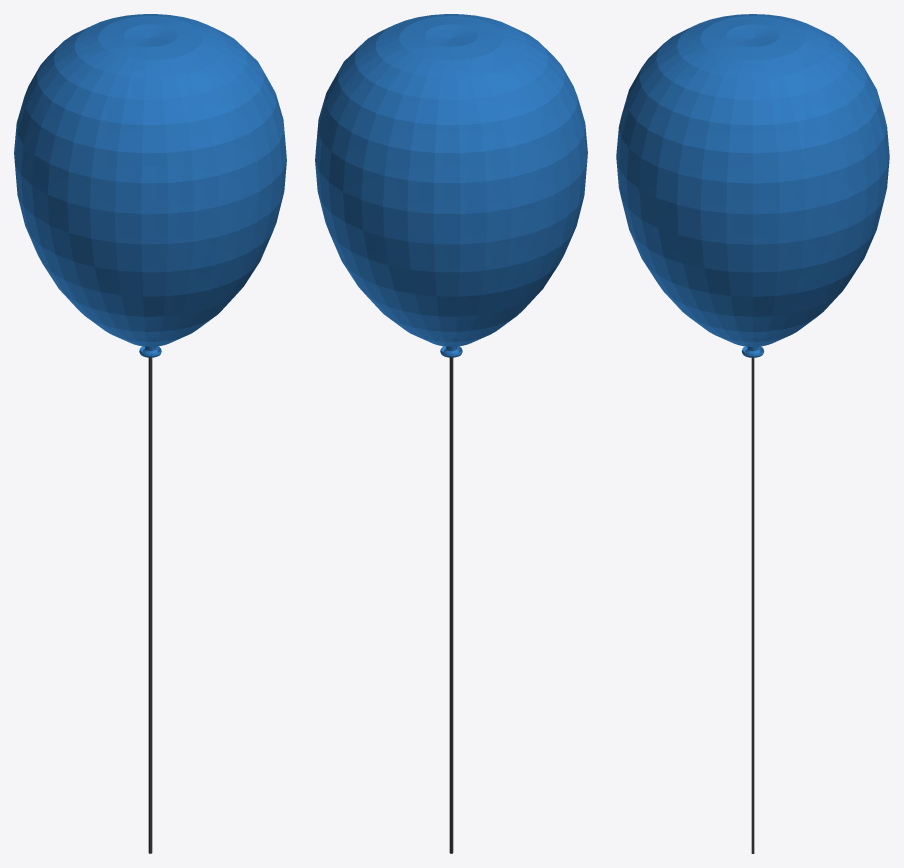
The model's file is baloons112.fbx.
The picture shows the model from 3 angles, left to right: view 1: azimuth 30°, elevation 25°; view 2: azimuth 150°, elevation 25°; view 3: azimuth 270°, elevation 25°; orthographic projection.
Parts seen in each view (by area): view 1: Balloon, Plane; view 2: Balloon, Plane; view 3: Balloon, Plane.
Part boxes in pixels (bbox=[...]): Balloon: bbox=[14, 14, 286, 357]; Plane: bbox=[148, 357, 152, 853]; Balloon: bbox=[315, 14, 587, 357]; Plane: bbox=[449, 357, 453, 853]; Balloon: bbox=[616, 14, 889, 357]; Plane: bbox=[751, 357, 754, 853].
Size of the model in its own units: 200 by 660 by 200.
